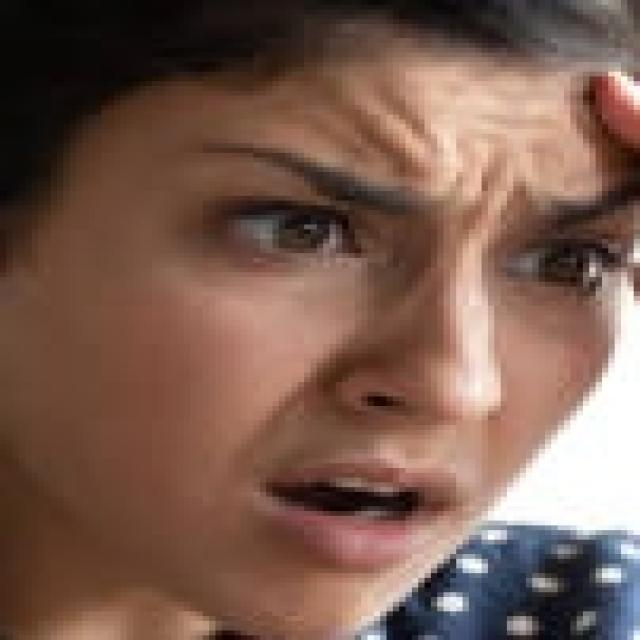Anxiety: (0, 26, 634, 635)
